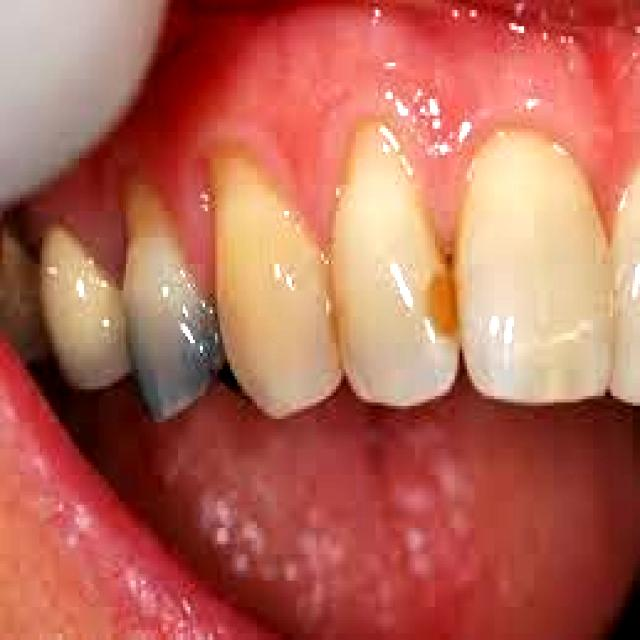tooth-discoloration: (124, 185, 222, 419)
